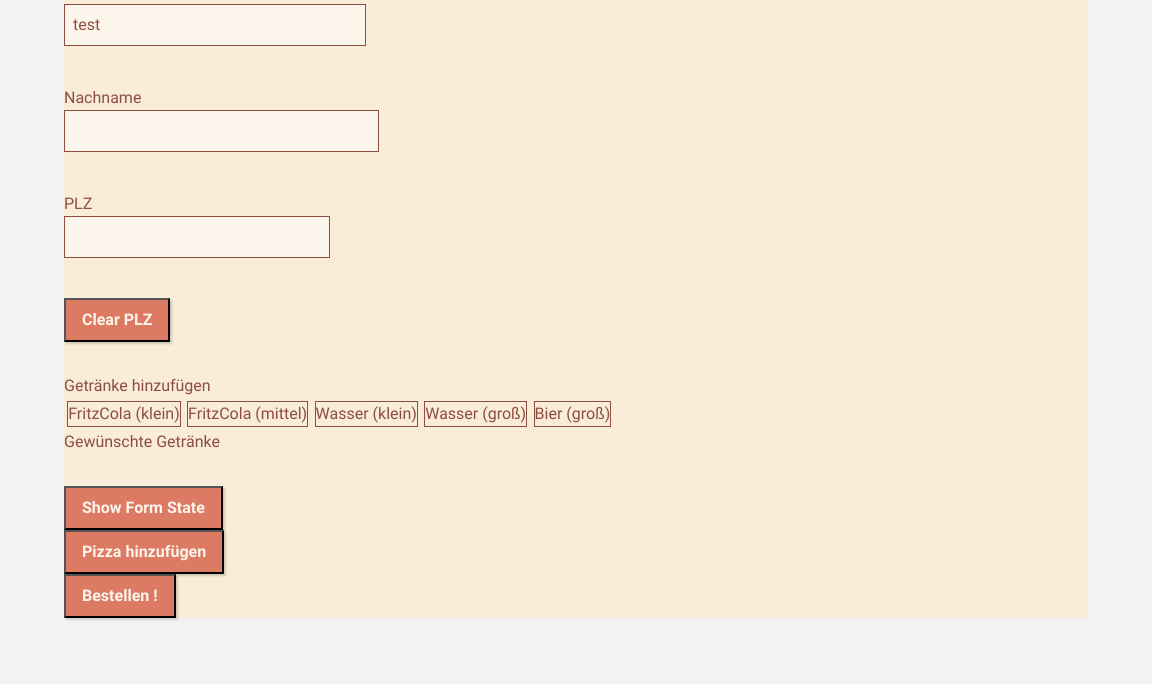
Test: should disable submit button if errors present
Click the button "Bestellen !". click: [120, 596]
box: [64,574,176,618]
(page scrolled)
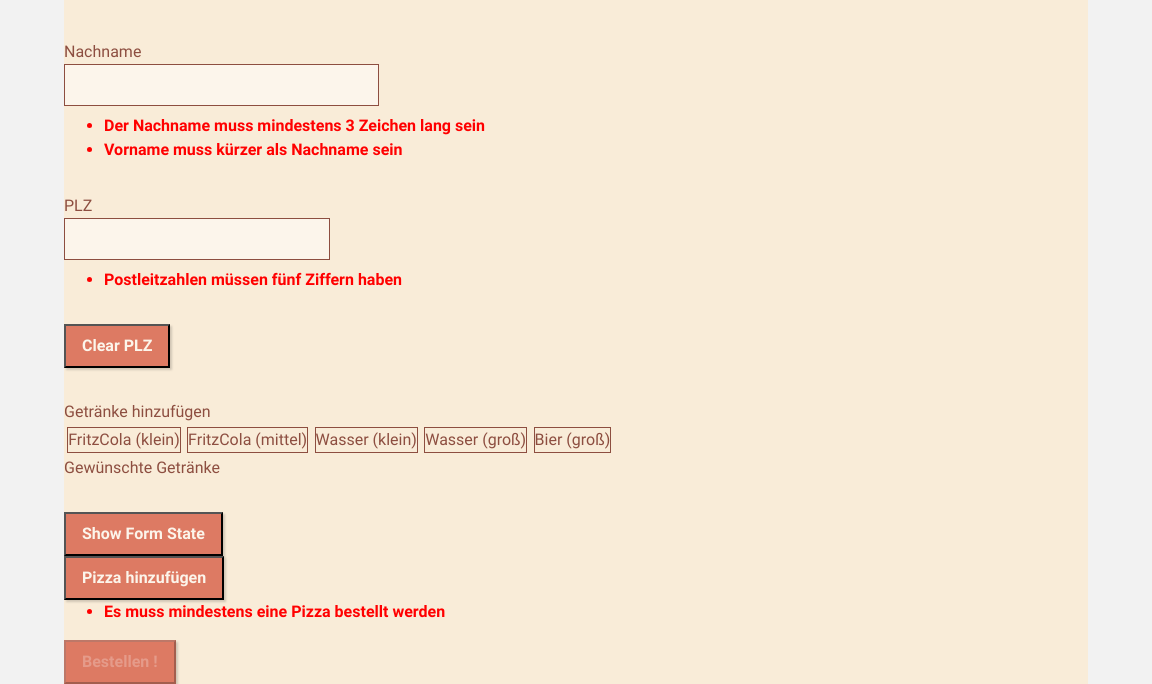
expect the 1st list item with test id "error-message" is shown: met, box [104,116,485,135]
expect the button "Bestellen !" is disabled: met, box [64,640,176,683]
